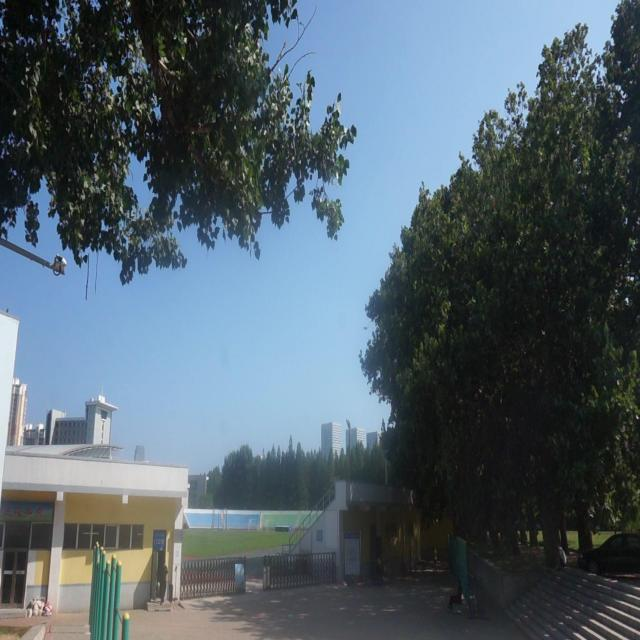UAV: (363, 327, 368, 330)
